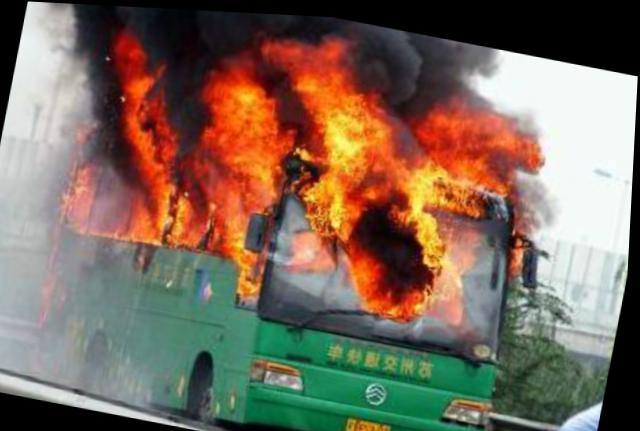fire: (414, 94, 547, 188), (188, 112, 299, 207), (260, 16, 362, 93), (307, 78, 400, 147), (325, 132, 413, 197), (211, 61, 285, 131), (297, 170, 370, 234), (360, 270, 436, 319), (107, 32, 163, 93), (134, 175, 181, 239), (210, 195, 256, 255), (141, 120, 187, 179), (169, 189, 215, 246), (124, 83, 168, 142), (425, 168, 489, 207), (415, 201, 451, 263), (349, 236, 393, 280), (237, 244, 273, 296)
